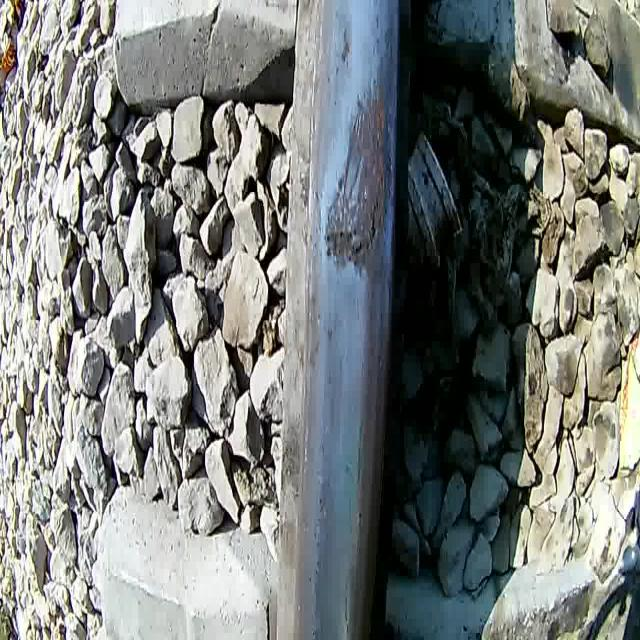Spallings: (322, 172, 390, 277)
Squats: (321, 10, 400, 296), (336, 22, 354, 72)
